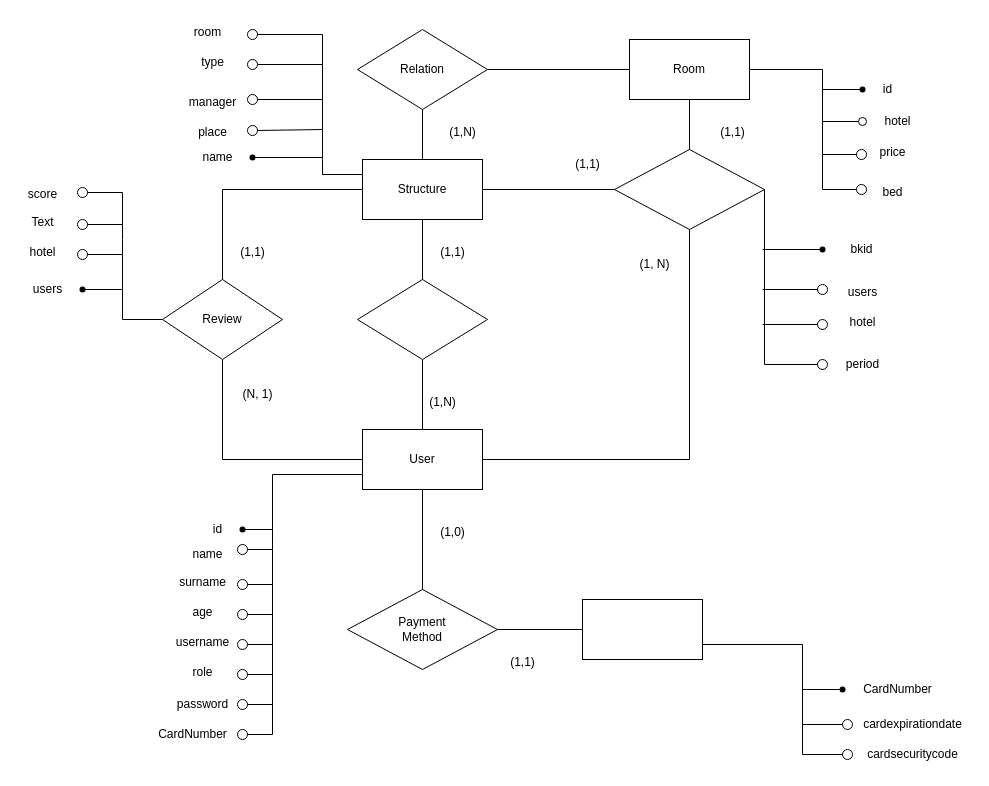
Image size: 989x786. Some labels were removed from this diagram. The box of each missing label's shape, as (x1, y1, x2, y2) in pixels:
Booking: (614, 148, 764, 230)
CreditCard: (582, 598, 702, 660)
Property: (356, 278, 488, 360)
